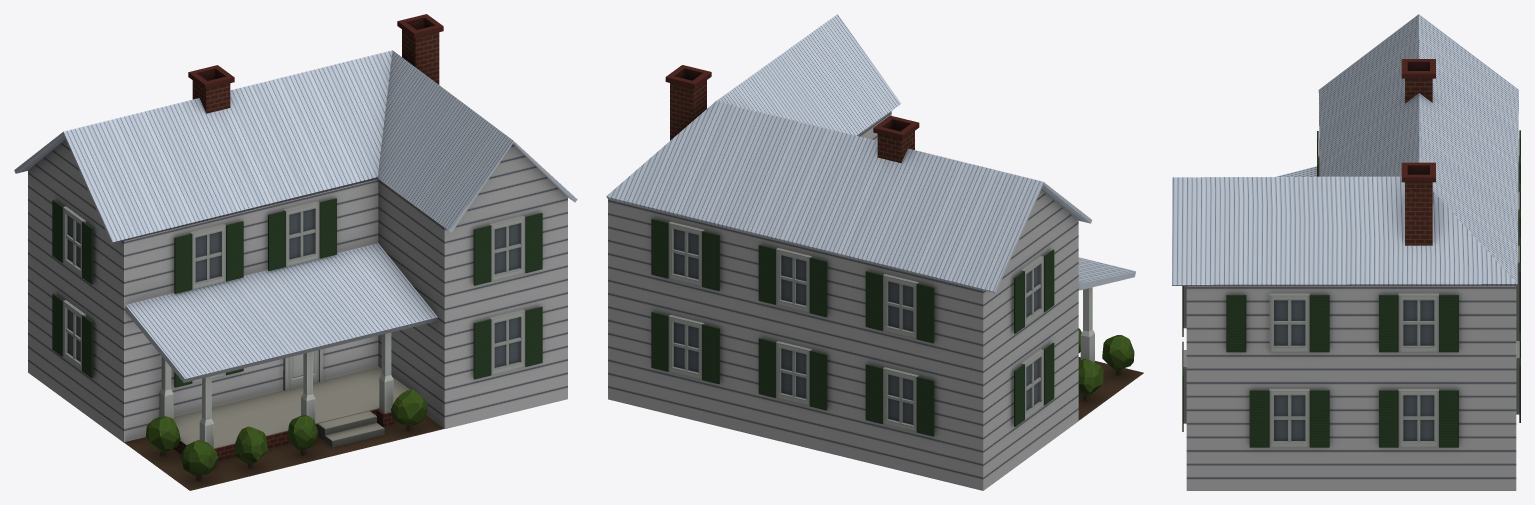
Rendered from FarmHouse.obj.
3 views of the same model, side by side, from view 1: azimuth 30°, elevation 25°; view 2: azimuth 150°, elevation 25°; view 3: azimuth 270°, elevation 25° (orthographic). The views are drawn at different scales.
Parts seen in each view (by area): view 1: FarmHouse_Mesh; view 2: FarmHouse_Mesh; view 3: FarmHouse_Mesh.
Boxes of the visible parts, <box> form: FarmHouse_Mesh: <box>14,14,577,490</box>; FarmHouse_Mesh: <box>606,14,1143,490</box>; FarmHouse_Mesh: <box>1172,14,1520,490</box>.
Bounding box in the file's own units: 25.34 × 18.43 × 19.12.
1 material, 1 textured.
